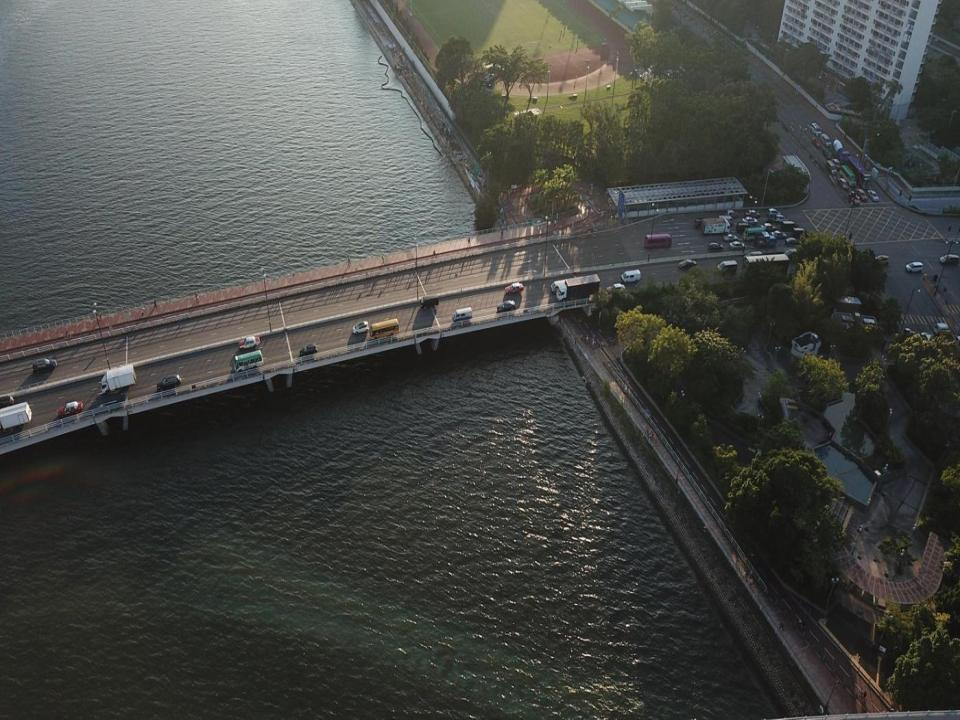bus: (739, 254, 789, 280), (370, 318, 399, 344), (233, 352, 264, 373), (839, 162, 857, 187), (643, 234, 673, 248)
car: (58, 400, 83, 418), (920, 332, 938, 356), (157, 374, 182, 391), (32, 358, 56, 373), (239, 335, 260, 350), (496, 301, 516, 315), (606, 282, 625, 296), (352, 320, 369, 334), (905, 260, 923, 273), (939, 253, 959, 264), (505, 283, 523, 295), (678, 260, 696, 272), (300, 344, 316, 357), (784, 236, 799, 249), (849, 190, 860, 207), (783, 248, 798, 260), (874, 254, 890, 265), (728, 242, 747, 250), (823, 146, 833, 161), (840, 176, 850, 191), (708, 242, 724, 251), (811, 136, 822, 149), (0, 398, 14, 408), (722, 210, 739, 218), (761, 222, 773, 233), (857, 187, 866, 201), (766, 209, 780, 218), (743, 216, 758, 224), (764, 225, 779, 233), (746, 210, 760, 218), (775, 215, 788, 223), (831, 159, 842, 168), (724, 235, 738, 242), (772, 231, 786, 238)
truck: (556, 274, 601, 303), (934, 323, 960, 369), (0, 400, 32, 432), (101, 364, 136, 393), (847, 154, 871, 188), (700, 217, 730, 236), (832, 137, 851, 163), (743, 226, 768, 242), (754, 234, 777, 248)
van: (451, 307, 473, 322), (716, 260, 738, 275), (551, 279, 575, 292), (420, 294, 439, 310), (622, 270, 640, 283), (826, 159, 838, 176), (737, 222, 754, 234), (810, 122, 822, 138), (693, 218, 709, 230), (790, 228, 806, 240), (782, 221, 799, 232), (720, 215, 734, 226), (822, 133, 832, 147)
